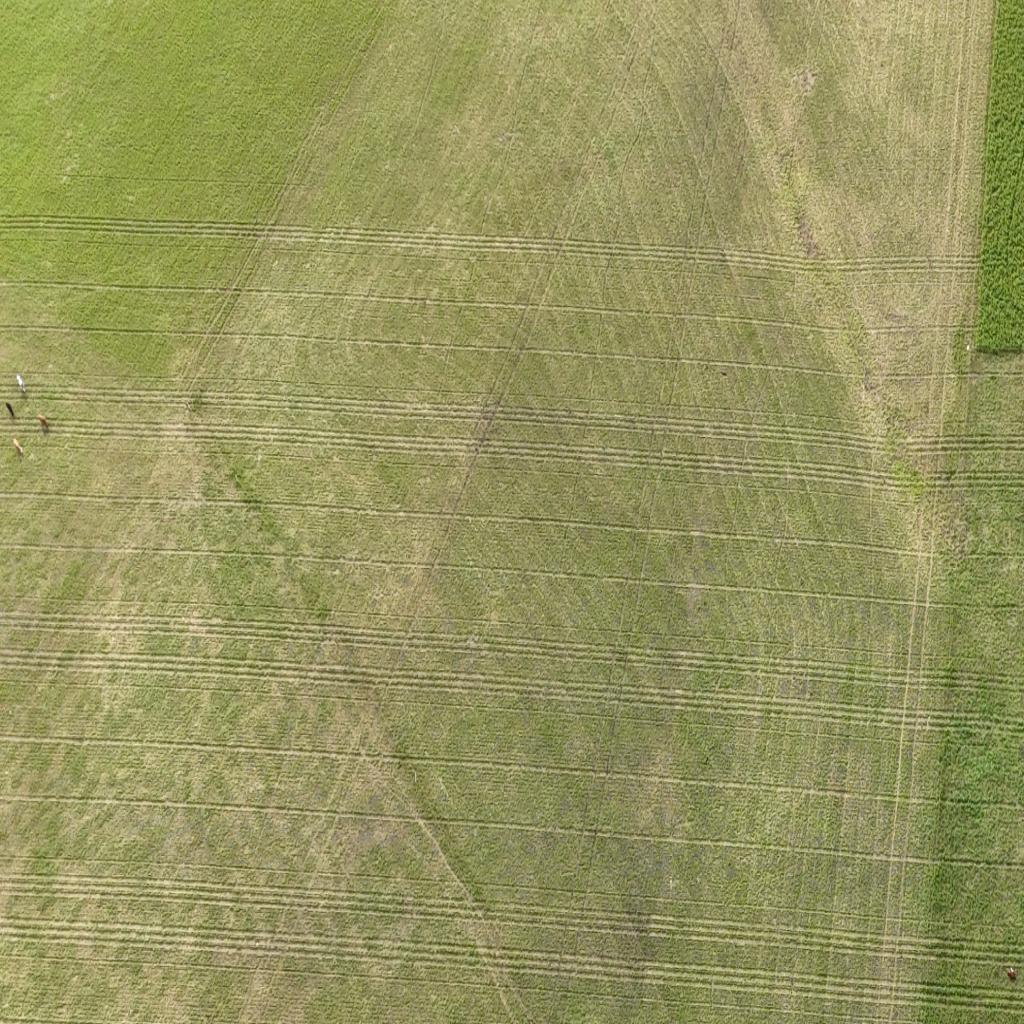cow: (998, 962, 1016, 985), (16, 372, 28, 394), (13, 437, 25, 457), (5, 401, 16, 419), (39, 415, 49, 429)
